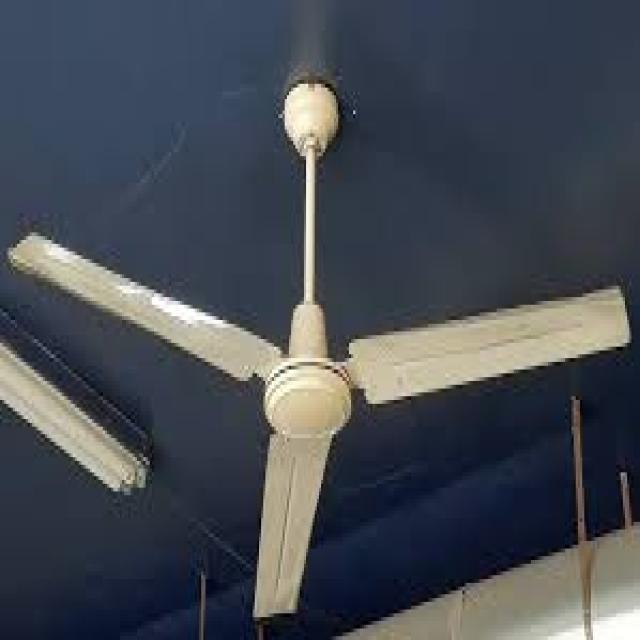fan_off: (9, 87, 631, 606)
tubelight_off: (0, 330, 162, 510)
